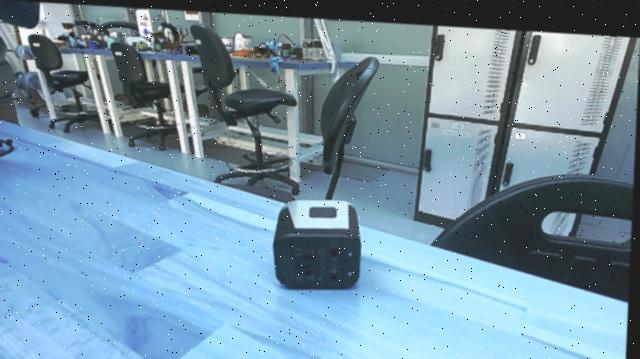adapter: (275, 191, 371, 296)
